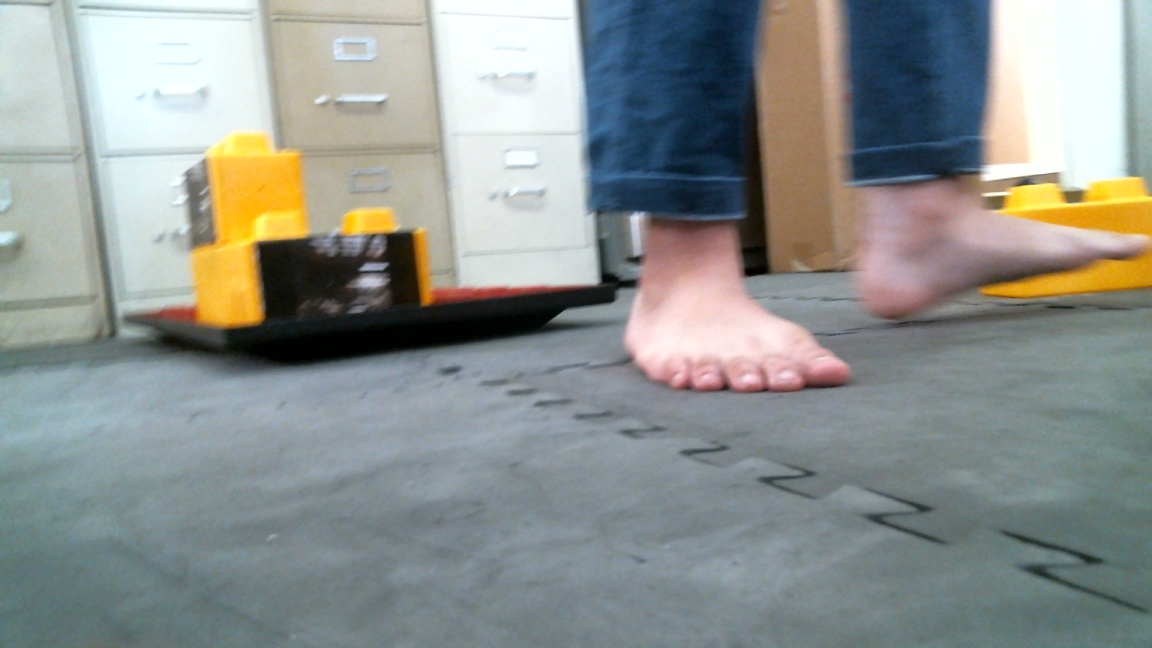skystone: (243, 209, 432, 321), (180, 130, 300, 246)
